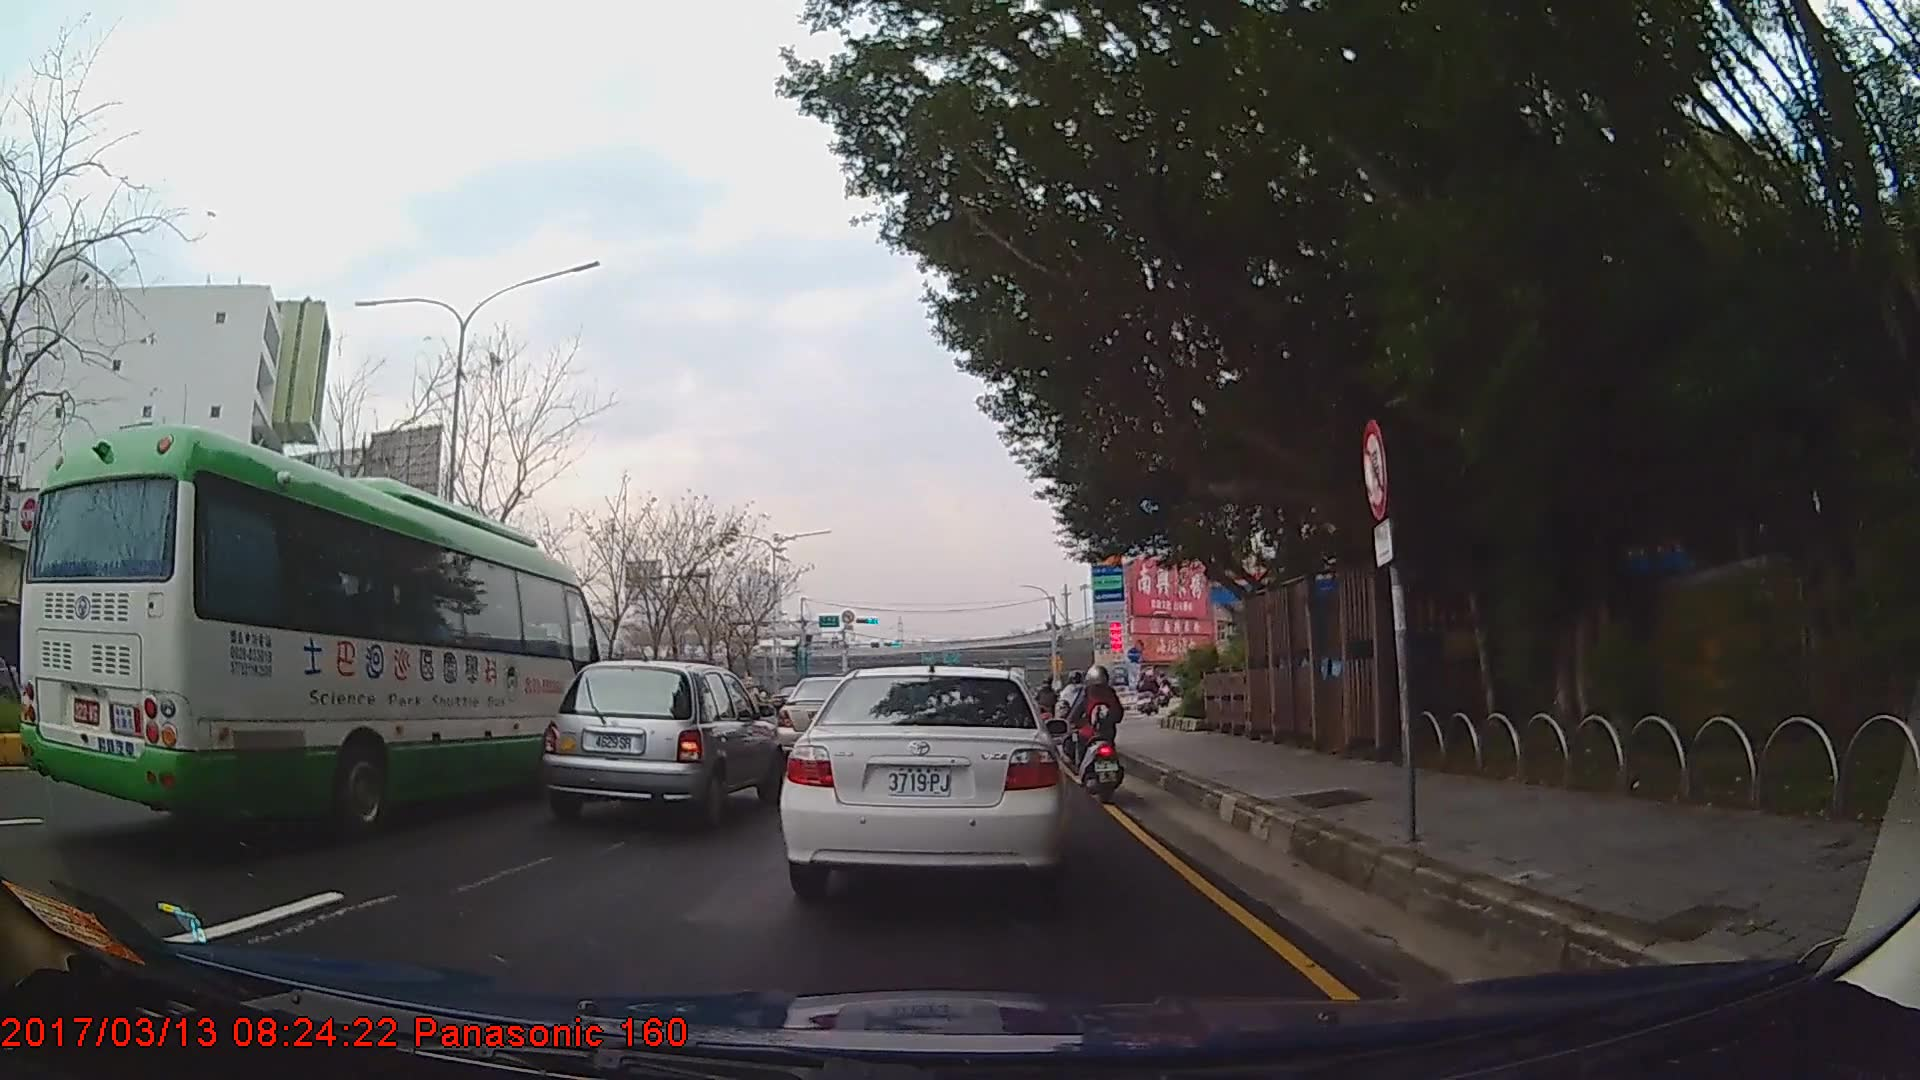rider: (1073, 662, 1124, 807), (1059, 671, 1093, 766), (1036, 675, 1060, 732), (1141, 670, 1162, 718)
vehicle: (20, 425, 603, 838), (778, 661, 1067, 895), (543, 655, 782, 831), (776, 673, 873, 764)
